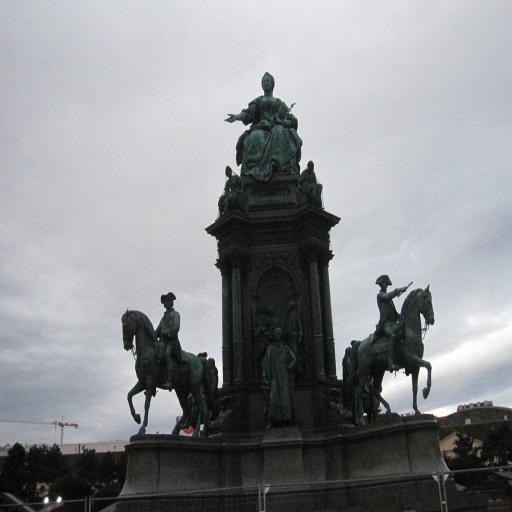horse: (344, 283, 436, 427), (119, 306, 214, 438)
